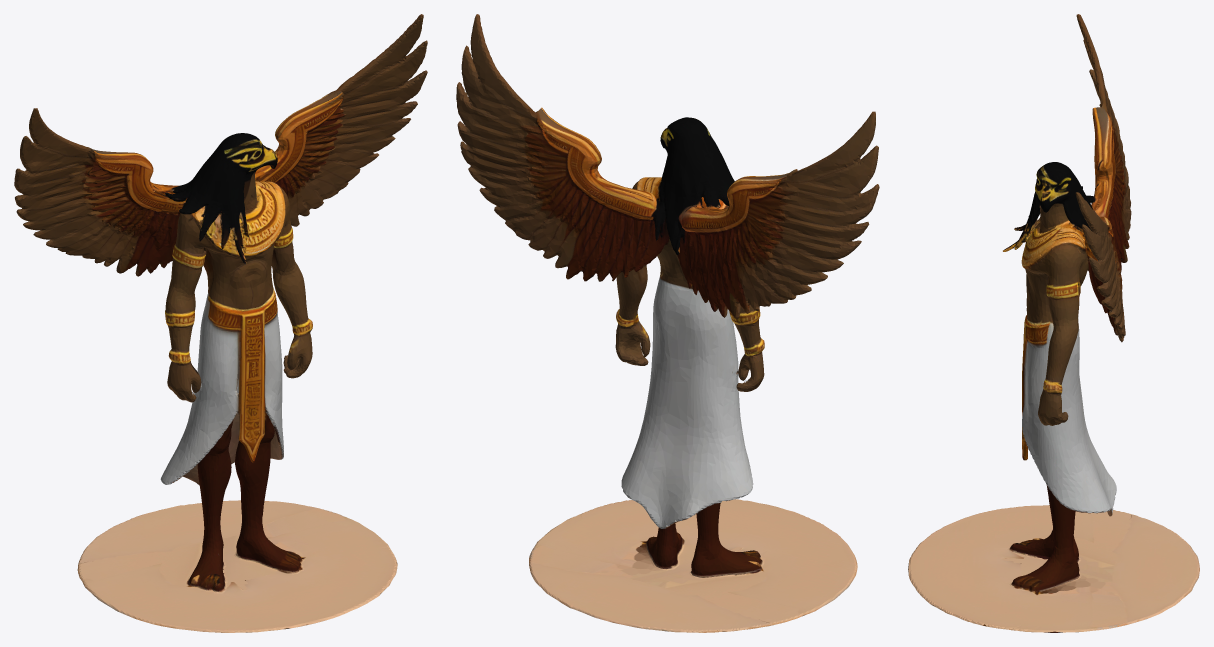
3 views of the same model, side by side, from view 1: azimuth 30°, elevation 25°; view 2: azimuth 150°, elevation 25°; view 3: azimuth 270°, elevation 25° (orthographic). The views are drawn at different scales.
Parts seen in each view (by area): view 1: textured_mesh.obj; view 2: textured_mesh.obj; view 3: textured_mesh.obj.
Part boxes in pixels (bbox=[...]): textured_mesh.obj: bbox=[14, 14, 427, 632]; textured_mesh.obj: bbox=[456, 14, 879, 632]; textured_mesh.obj: bbox=[908, 14, 1199, 632].
Size of the model in its own units: 1.72 by 1.99 by 1.12.
1 material, 1 textured.
